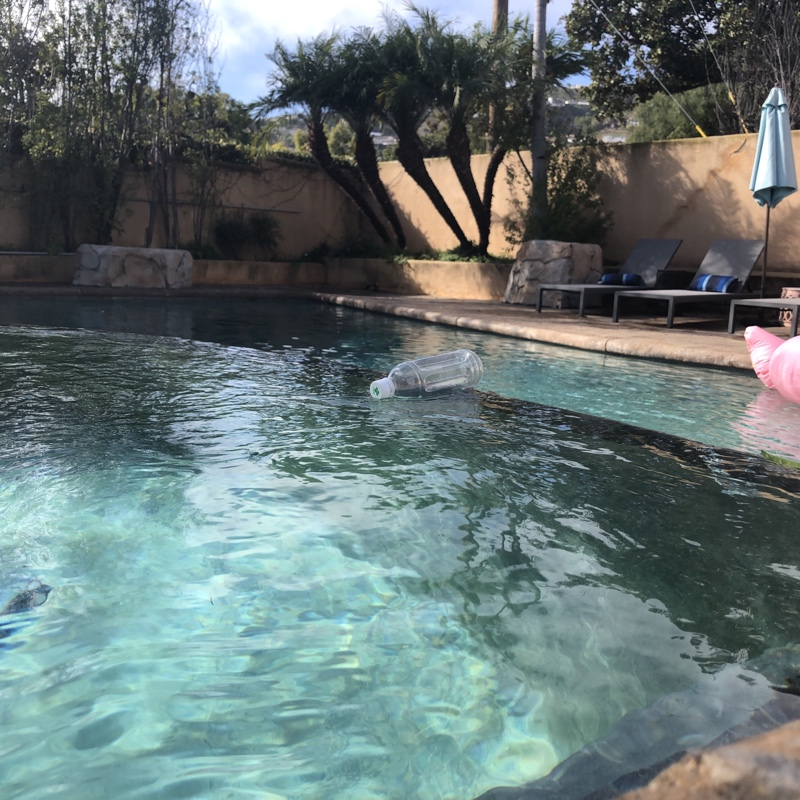Plastic Bottle: (367, 348, 491, 405)
